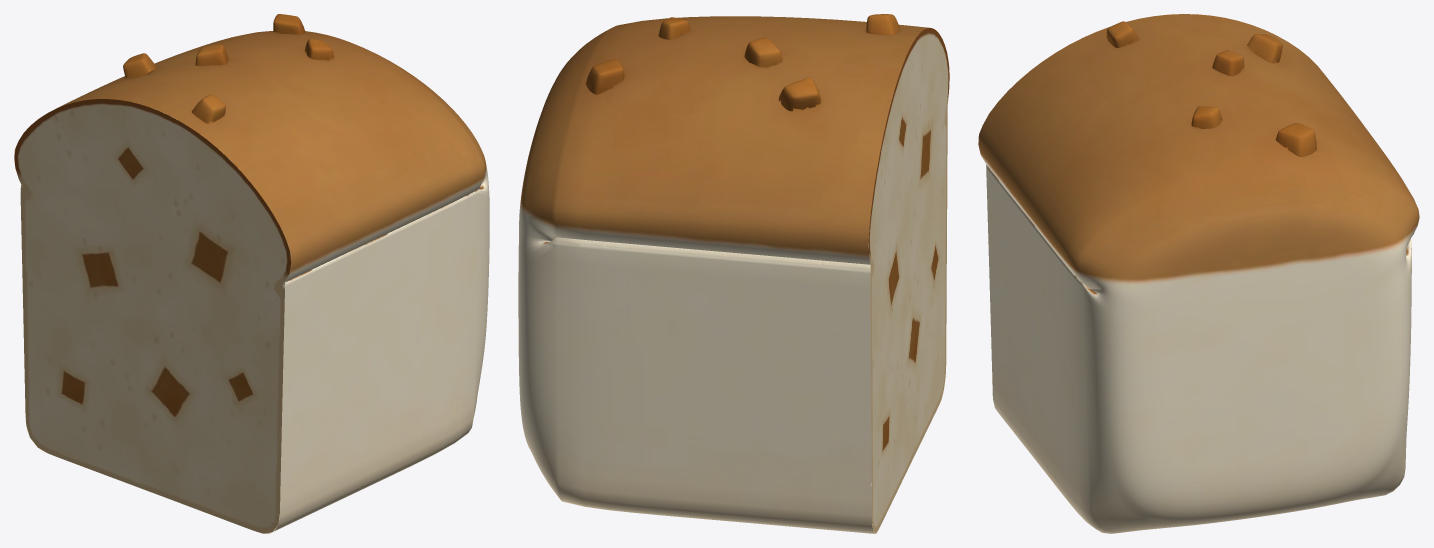
Rendered from loaf--maple-cube.glb.
3 renders of one model, left to right at view 1: azimuth 30°, elevation 25°; view 2: azimuth 150°, elevation 25°; view 3: azimuth 270°, elevation 25°, orthographic. The views are drawn at different scales.
Parts seen in each view (by area): view 1: loaf_maple-cube; view 2: loaf_maple-cube; view 3: loaf_maple-cube.
Boxes of the visible parts, x1,y1,x2,y2 form: loaf_maple-cube: (14,14,489,533); loaf_maple-cube: (518,14,949,533); loaf_maple-cube: (978,14,1419,533).
Size of the model in its own units: 0.7191 by 0.7415 by 0.7477.
1 material, 1 textured.
